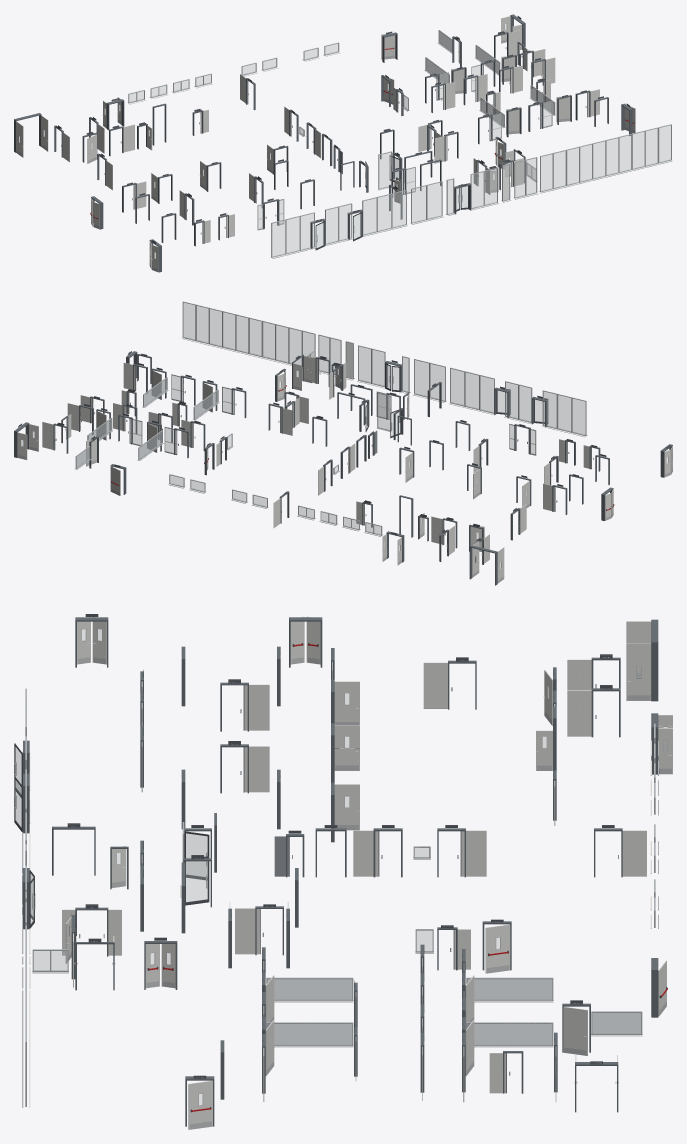
File: 09_n1_puertas.glb
3 renders of one model, top to bottom at view 1: azimuth 30°, elevation 25°; view 2: azimuth 150°, elevation 25°; view 3: azimuth 270°, elevation 25°, orthographic. The views are drawn at different scales.
Parts seen in each view (by area): view 1: Puerta N1 · 10, Ventana N1 · 87, Ventana N1 · 86, Ventana N1 · 78, Ventana N1 · 84, Ventana N1 · 83, Ventana N1 · 85, Ventana N1 · 79, Ventana N1 · 94, Ventana N1 · 96, Ventana N1 · 102, Ventana N1 · 99 (+35 smaller); view 2: Puerta N1 · 10, Puerta N1 · 00, Ventana N1 · 83, Ventana N1 · 78, Ventana N1 · 84, Ventana N1 · 87, Puerta N1 · 19, Ventana N1 · 85, Ventana N1 · 79, Ventana N1 · 86, Ventana N1 · 80, Ventana N1 · 97 (+26 smaller); view 3: Puerta N1 · 10, Ventana N1 · 106, Ventana N1 · 108, Ventana N1 · 107, Ventana N1 · 109, Puerta N1 · 52, Puerta N1 · 49, Puerta N1 · 42, Puerta N1 · 62, Puerta N1 · 53, Puerta N1 · 08, Puerta N1 · 07 (+23 smaller).
Part boxes in pixels (left/top/right/bottom): Puerta N1 · 10: left=14, top=113, right=48, bottom=157; Ventana N1 · 87: left=427, top=181, right=443, bottom=220; Ventana N1 · 86: left=410, top=185, right=427, bottom=224; Ventana N1 · 78: left=270, top=219, right=286, bottom=258; Ventana N1 · 84: left=377, top=193, right=392, bottom=232; Ventana N1 · 83: left=362, top=197, right=378, bottom=236; Ventana N1 · 85: left=392, top=190, right=407, bottom=229; Ventana N1 · 79: left=286, top=216, right=301, bottom=255; Ventana N1 · 94: left=539, top=153, right=554, bottom=193; Ventana N1 · 96: left=566, top=146, right=580, bottom=186; Ventana N1 · 102: left=645, top=127, right=659, bottom=167; Ventana N1 · 99: left=606, top=137, right=619, bottom=177; Puerta N1 · 10: left=469, top=541, right=504, bottom=585; Puerta N1 · 00: left=14, top=422, right=38, bottom=459; Ventana N1 · 83: left=478, top=375, right=494, bottom=414; Ventana N1 · 78: left=571, top=397, right=587, bottom=437; Ventana N1 · 84: left=464, top=371, right=479, bottom=410; Ventana N1 · 87: left=413, top=359, right=429, bottom=398; Puerta N1 · 19: left=292, top=354, right=312, bottom=390; Ventana N1 · 85: left=449, top=367, right=464, bottom=407; Ventana N1 · 79: left=556, top=394, right=571, bottom=433; Ventana N1 · 86: left=429, top=362, right=446, bottom=402; Ventana N1 · 80: left=542, top=390, right=557, bottom=429; Ventana N1 · 97: left=261, top=321, right=275, bottom=361; Puerta N1 · 10: left=626, top=619, right=658, bottom=701; Ventana N1 · 106: left=466, top=977, right=553, bottom=1002; Ventana N1 · 108: left=266, top=977, right=353, bottom=1002; Ventana N1 · 107: left=466, top=1022, right=553, bottom=1047; Ventana N1 · 109: left=266, top=1022, right=353, bottom=1047; Puerta N1 · 52: left=289, top=616, right=322, bottom=667; Puerta N1 · 49: left=75, top=617, right=108, bottom=667; Puerta N1 · 42: left=144, top=940, right=177, bottom=989; Puerta N1 · 62: left=482, top=921, right=511, bottom=973; Puerta N1 · 53: left=185, top=1076, right=214, bottom=1129; Puerta N1 · 08: left=353, top=828, right=402, bottom=877; Puerta N1 · 07: left=437, top=828, right=486, bottom=877.
Bounding box in the file's own units: 50.78 × 4.39 × 31.14.
Materials: 15 (1 with a texture image).
